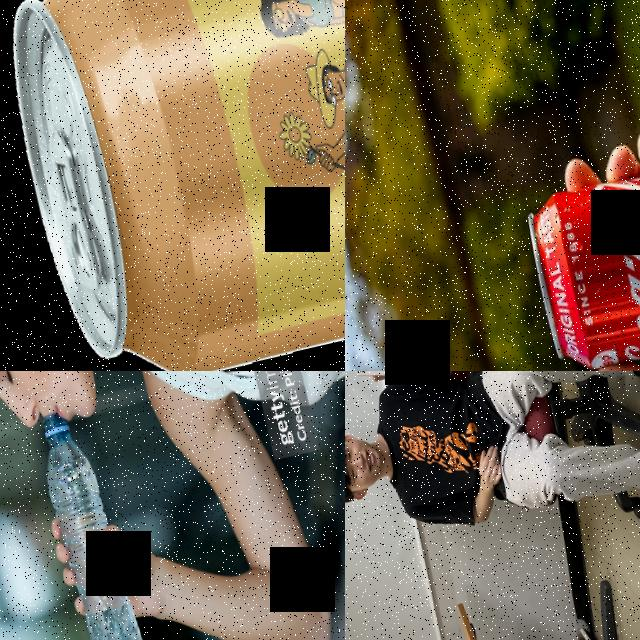bottle: (25, 400, 145, 640)
can: (0, 0, 345, 371), (517, 148, 640, 371)
